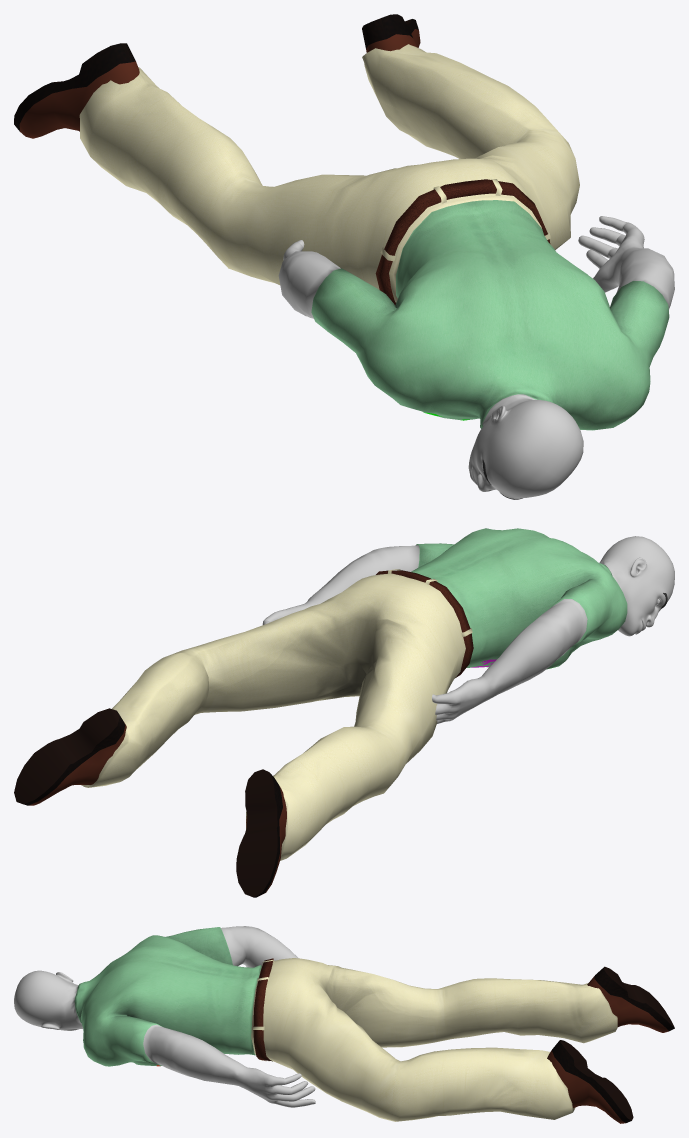
Rendered from token_dead.obj.
3 renders of one model, top to bottom at view 1: azimuth 30°, elevation 25°; view 2: azimuth 150°, elevation 25°; view 3: azimuth 270°, elevation 25°, orthographic. The views are drawn at different scales.
Visible parts, largest first — view 1: death_stops_us_all; view 2: death_stops_us_all; view 3: death_stops_us_all.
Part boxes in pixels (x1=…): death_stops_us_all: x1=14, y1=14, x2=674, y2=499; death_stops_us_all: x1=14, y1=528, x2=674, y2=897; death_stops_us_all: x1=14, y1=926, x2=674, y2=1123.
Bounding box in the file's own units: 19.34 × 7.29 × 42.02.
